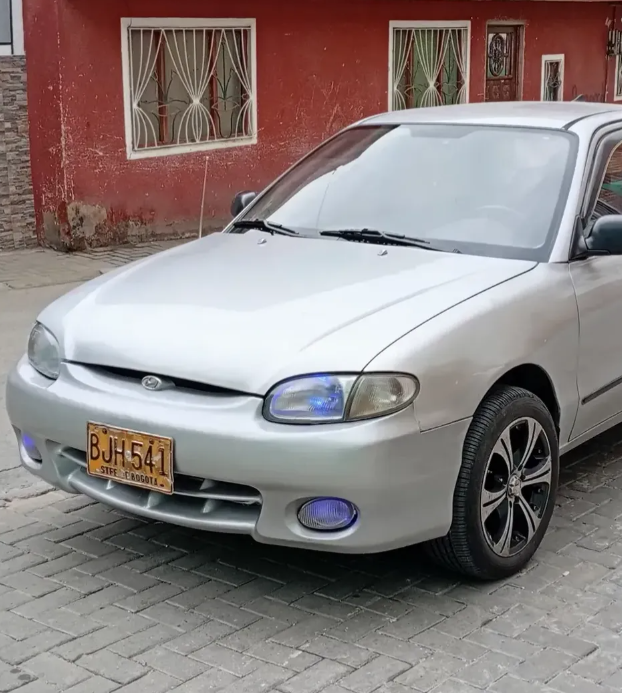placa: (85, 417, 175, 497)
